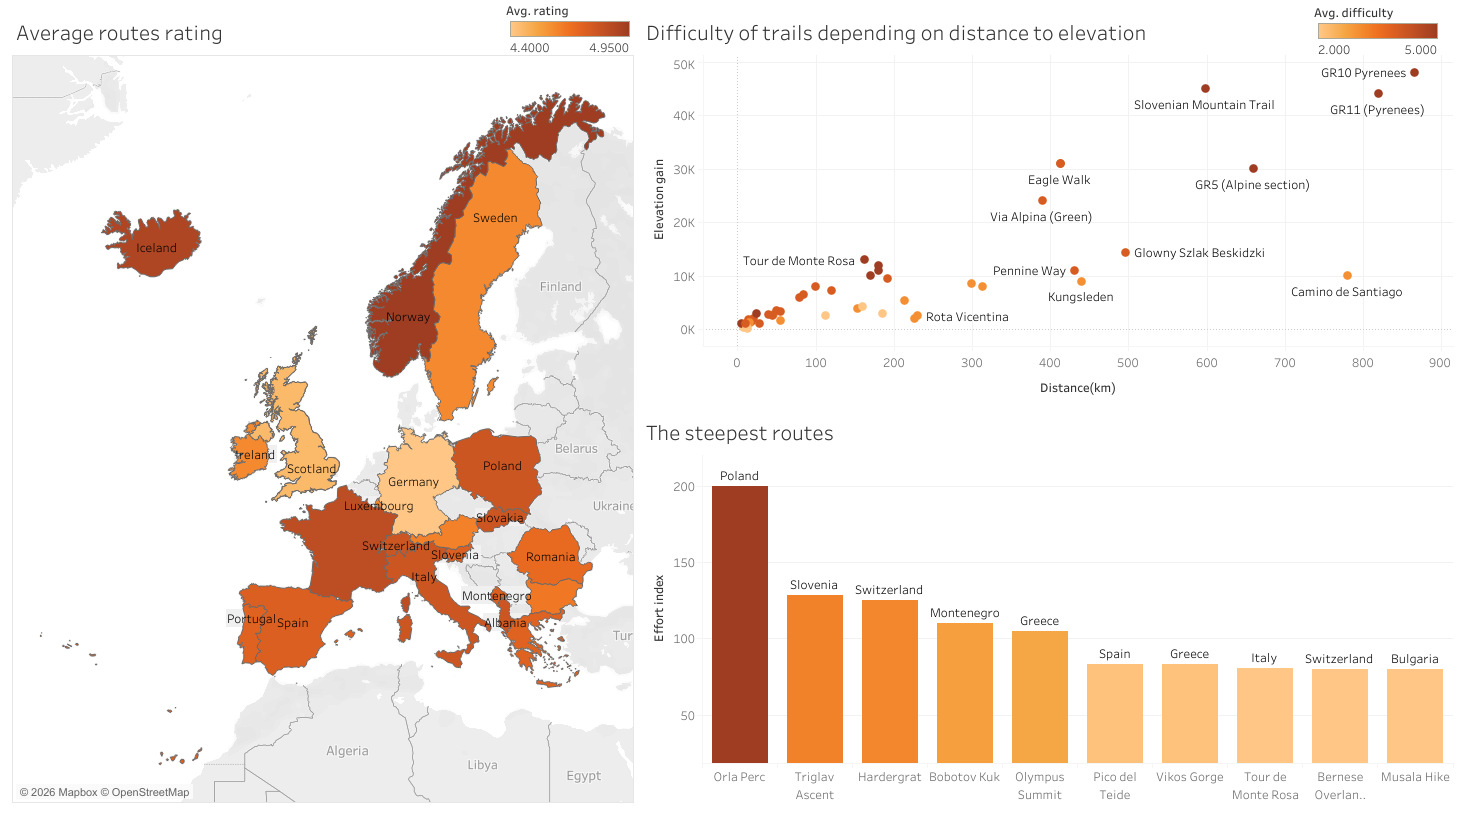

Layout of this report page (visuals, bound fields, positions):
{"tool":"tableau","page":{"name":"Dashboard 1","canvas":[1000,1000],"units":"permille","ordinal":0},"visuals":[{"type":"worksheet","title":"Sheet 1","mark":"Multipolygon","box":[7.8,12.4,428.2,975.2]},{"type":"worksheet","title":"Sheet 2","mark":"Automatic","rows":["elevation_gain"],"cols":["distance_km"],"box":[436,12.4,556.1,487.6]},{"type":"worksheet","title":"Sheet 3","mark":"Automatic","rows":["effort_index"],"cols":["route_name"],"box":[436,500,556.1,487.6]}]}

Visuals, with their boxes on the dashboard's canvas, which has no fixed pixel size, in thousandths of its width and height (x1, y1, x2, y2). These are canvas units, not pixel positions in the 1464x814 screenshot, which may show the page scaled, cropped or inside an application window:
"Sheet 1" worksheet (Multipolygon marks): <bbox>8, 12, 436, 988</bbox>
"Sheet 2" worksheet: <bbox>436, 12, 992, 500</bbox>
"Sheet 3" worksheet: <bbox>436, 500, 992, 988</bbox>
